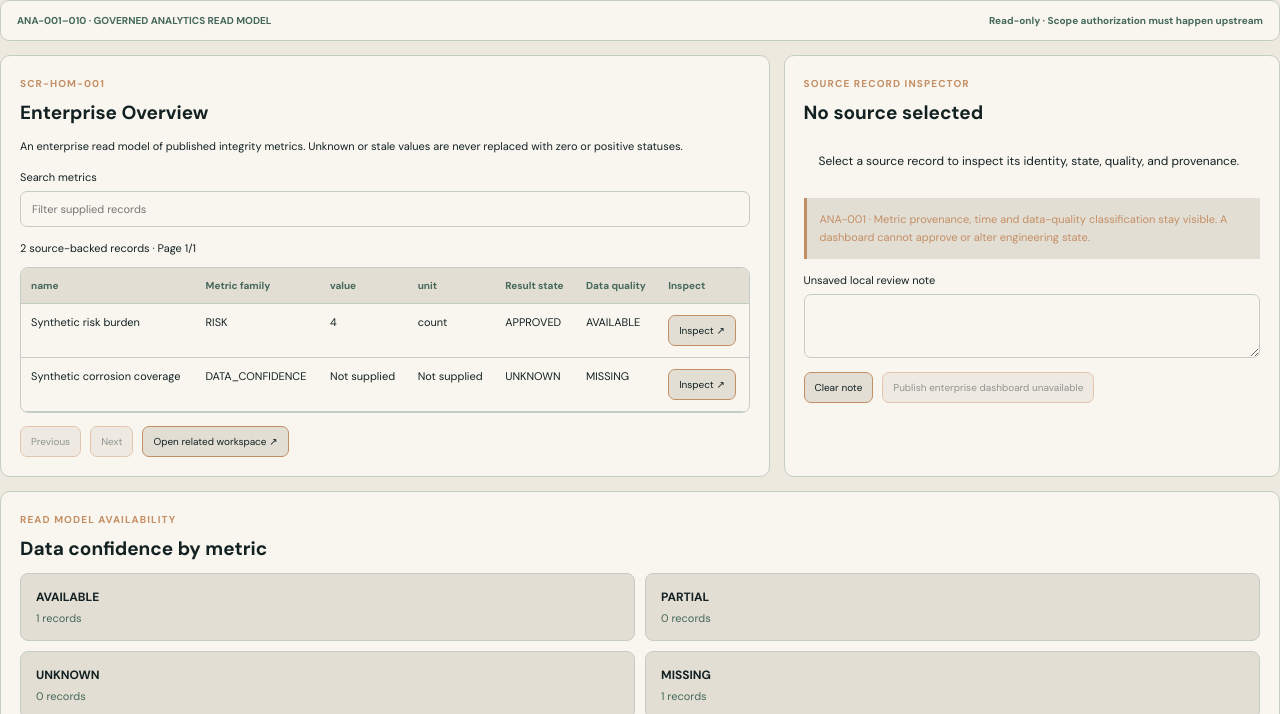
Scenario: ANA canonical screens and HOME read-model integration › HOME can filter approved metrics
Type "synthetic risk" into the search field labelled "Search metrics" at (385, 209), box [20,191,750,227]
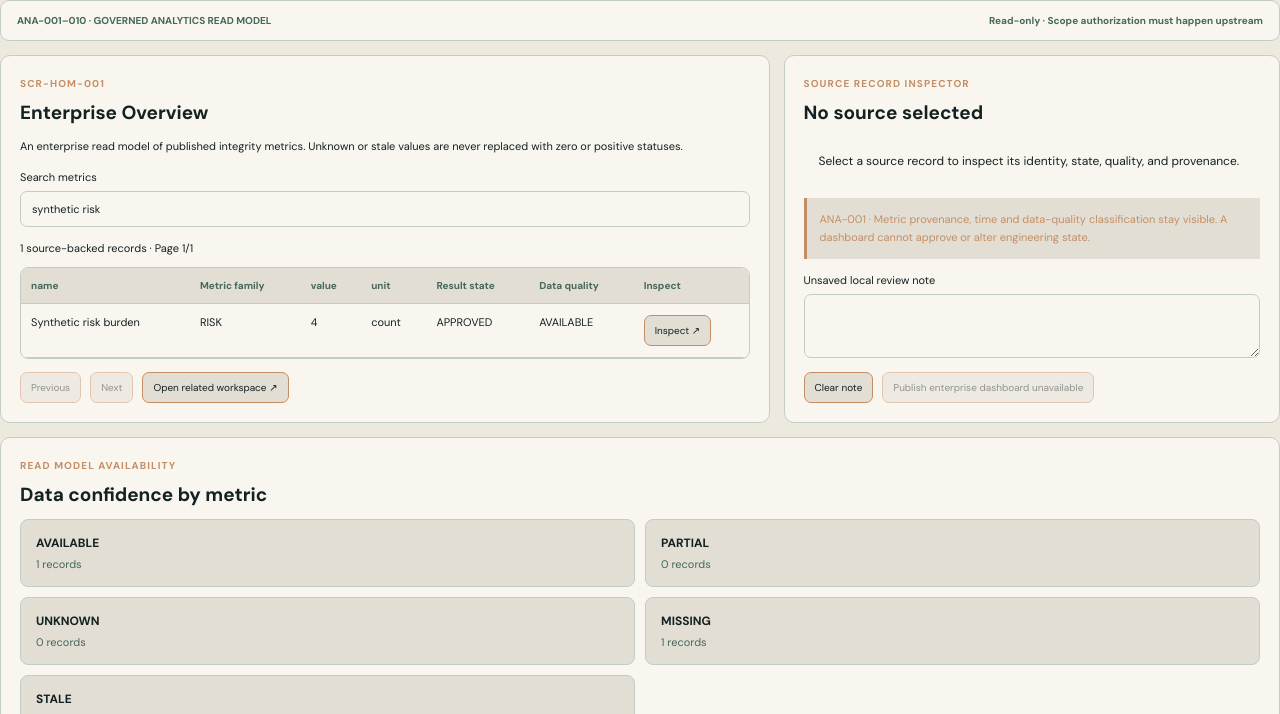
Check: the text "Synthetic risk burden" is shown, box [21,304,190,357]
Check: the text "Synthetic corrosion coverage" is gone
